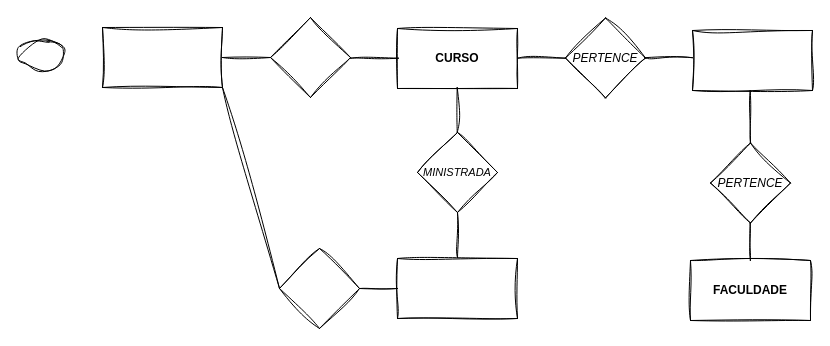
Some shapes in this 830 by 346 pixel diagram are drawn without their labels. The shapes that lost their labels are listed below. From the top down, each one's centre as x and y in pixels, then its label:
At (162,57): "ALUNO".
At (752,60): "DEPARTAMENTO".
At (457,288): "DISCIPLINA".
